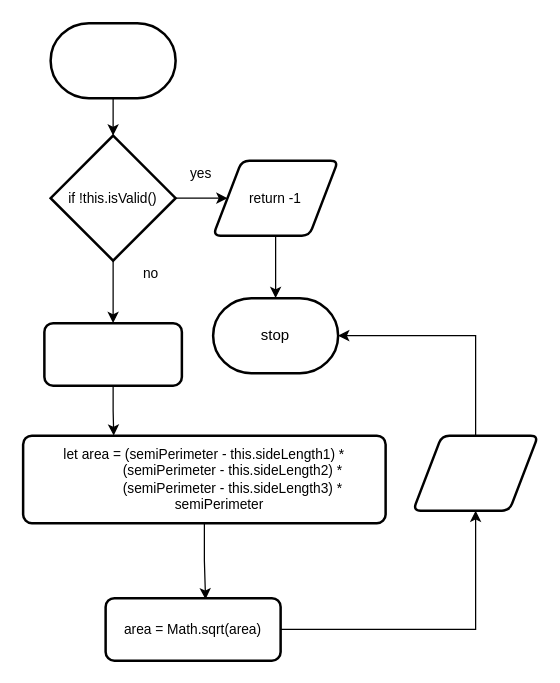
This 560x683 diagram has some shape labels left out. Each missing label, with the centre of its shape:
const semiPerimeter = this.semiPerimeter(): (x=112, y=353)
return area: (x=475, y=472)
start: (x=112, y=60)
